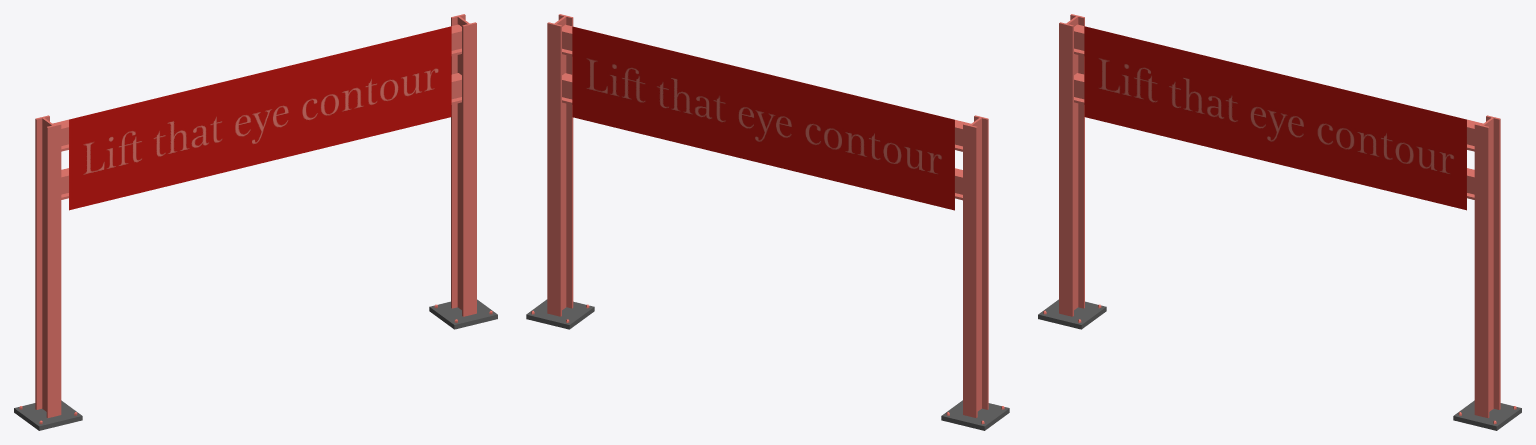
Rendered from New_Arc_LIFT.glb.
3 views of the same model, side by side, from view 1: azimuth 30°, elevation 25°; view 2: azimuth 150°, elevation 25°; view 3: azimuth 330°, elevation 25° (orthographic).
Visible parts, largest first — view 1: Banner_, Frame_, Base_; view 2: Banner_, Frame_, Base_; view 3: Banner_, Frame_, Base_.
Part boxes in pixels (bbox=[...]): Banner_: bbox=[69, 26, 451, 210]; Frame_: bbox=[35, 14, 476, 417]; Base_: bbox=[14, 299, 497, 430]; Banner_: bbox=[572, 26, 954, 210]; Frame_: bbox=[547, 14, 988, 417]; Base_: bbox=[526, 299, 1009, 430]; Banner_: bbox=[1084, 26, 1466, 210]; Frame_: bbox=[1059, 14, 1500, 417]; Base_: bbox=[1038, 299, 1521, 430].
Bounding box in the file's own units: 2115 × 1305 × 200.
Materials: 3 (1 with a texture image).
